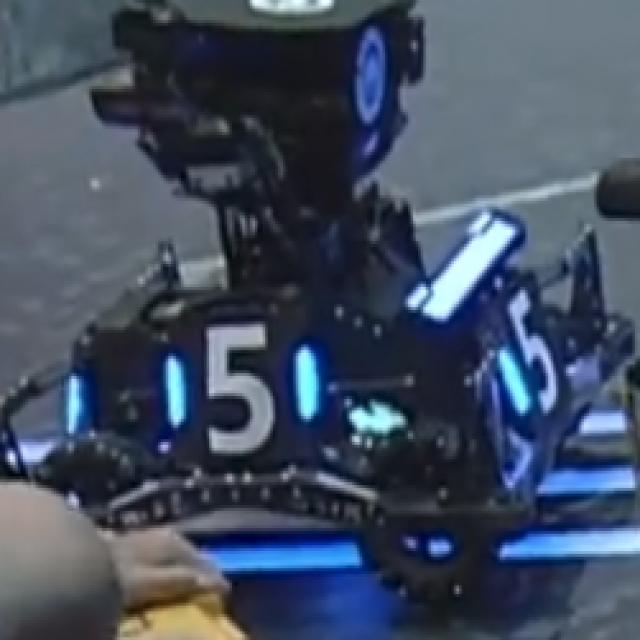B5: (160, 316, 324, 454)
